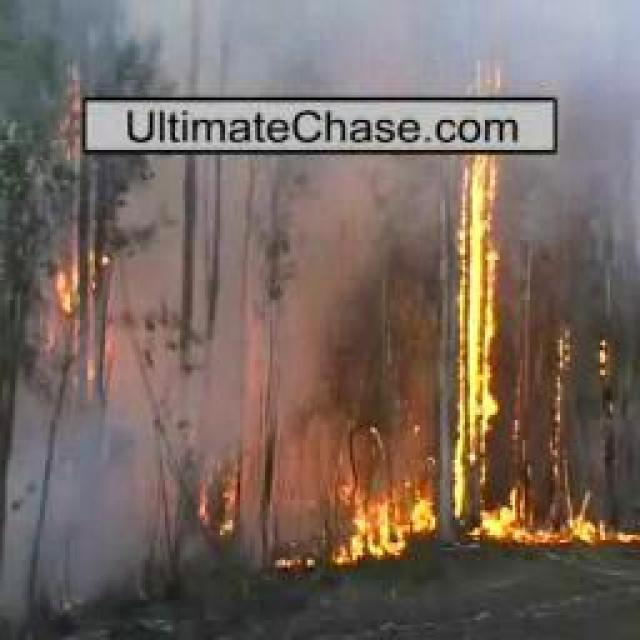Fire: (454, 74, 512, 566), (325, 452, 441, 568), (180, 464, 249, 559), (48, 245, 116, 336), (537, 505, 640, 555)
